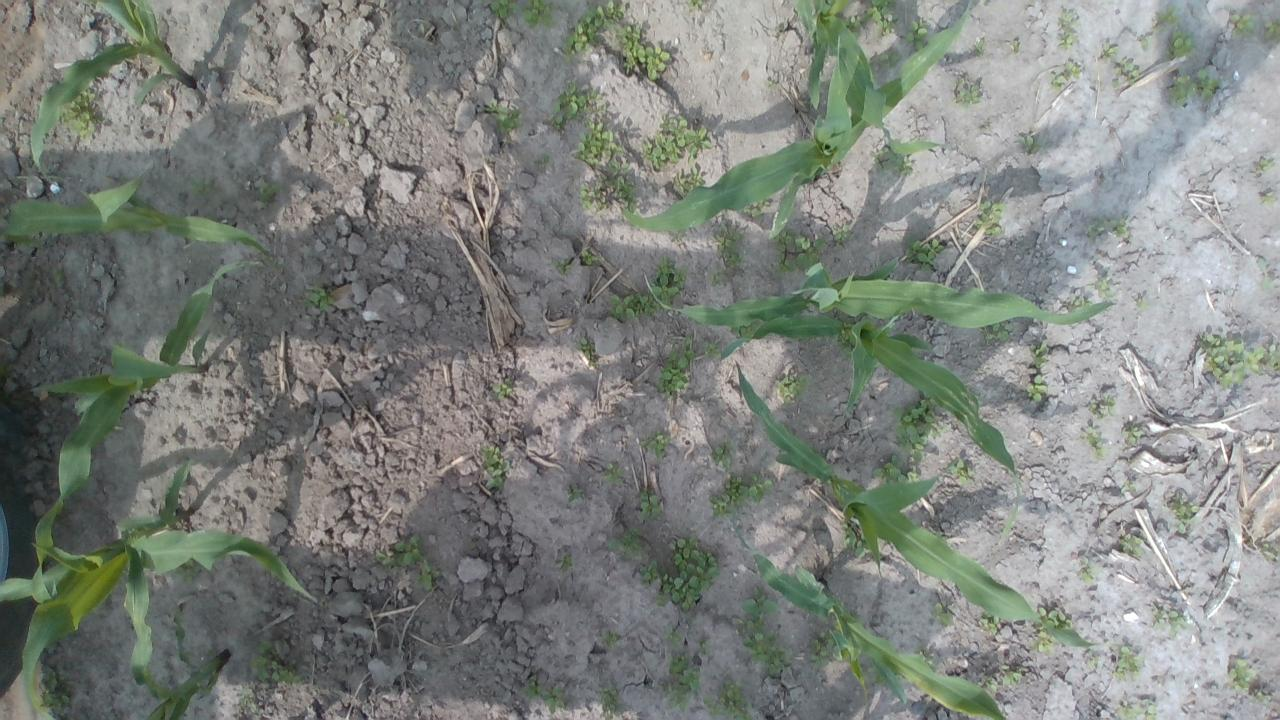Maize: (734, 356, 1114, 654), (0, 380, 318, 720), (616, 0, 978, 235), (713, 500, 1008, 720), (30, 261, 286, 431), (640, 250, 1114, 336), (26, 2, 201, 186), (2, 158, 280, 268), (794, 3, 954, 154), (139, 597, 236, 720)
Weeds: (550, 82, 716, 215), (594, 527, 719, 615), (560, 0, 674, 82), (1136, 6, 1226, 108), (734, 584, 798, 676), (606, 254, 684, 322), (766, 224, 854, 278), (1199, 330, 1278, 388), (663, 626, 714, 708), (376, 531, 442, 592), (894, 394, 954, 458), (1065, 278, 1149, 316), (251, 640, 306, 688), (710, 472, 774, 512), (656, 336, 694, 396), (488, 1, 562, 30), (844, 4, 900, 41), (712, 229, 748, 285), (1096, 41, 1138, 88), (61, 92, 99, 141), (1033, 608, 1071, 656), (709, 678, 752, 720), (1026, 342, 1052, 406), (874, 458, 924, 490), (906, 234, 951, 266), (480, 446, 511, 492), (1085, 218, 1134, 246), (526, 676, 564, 712), (1224, 654, 1256, 694), (482, 103, 522, 134), (1164, 491, 1194, 532), (1088, 391, 1120, 428), (1048, 58, 1081, 93), (976, 200, 1004, 241), (978, 666, 1022, 692), (596, 684, 628, 719), (774, 373, 815, 400), (804, 634, 834, 670), (1113, 644, 1141, 682), (1082, 428, 1108, 468), (1054, 8, 1078, 50), (947, 458, 976, 492), (639, 431, 668, 462), (954, 74, 982, 105), (1156, 606, 1188, 633), (981, 317, 1014, 343), (636, 487, 662, 520), (1111, 701, 1158, 719), (304, 282, 333, 310), (1074, 556, 1100, 586), (930, 600, 957, 628), (904, 21, 930, 49), (1120, 532, 1146, 560), (871, 50, 904, 72), (252, 172, 284, 194), (1228, 12, 1254, 38), (574, 336, 596, 366), (695, 340, 721, 364), (1256, 257, 1273, 293), (603, 461, 625, 488), (976, 616, 1004, 636), (237, 684, 255, 712), (548, 256, 574, 275), (1122, 427, 1144, 449), (1260, 541, 1280, 564), (1020, 134, 1042, 154), (565, 482, 585, 504), (1088, 651, 1108, 673), (1254, 154, 1274, 176), (493, 378, 511, 400), (1263, 21, 1280, 44), (602, 628, 620, 646), (1260, 188, 1278, 206), (554, 552, 570, 572), (581, 248, 600, 264), (336, 110, 352, 127), (1258, 692, 1276, 706)
